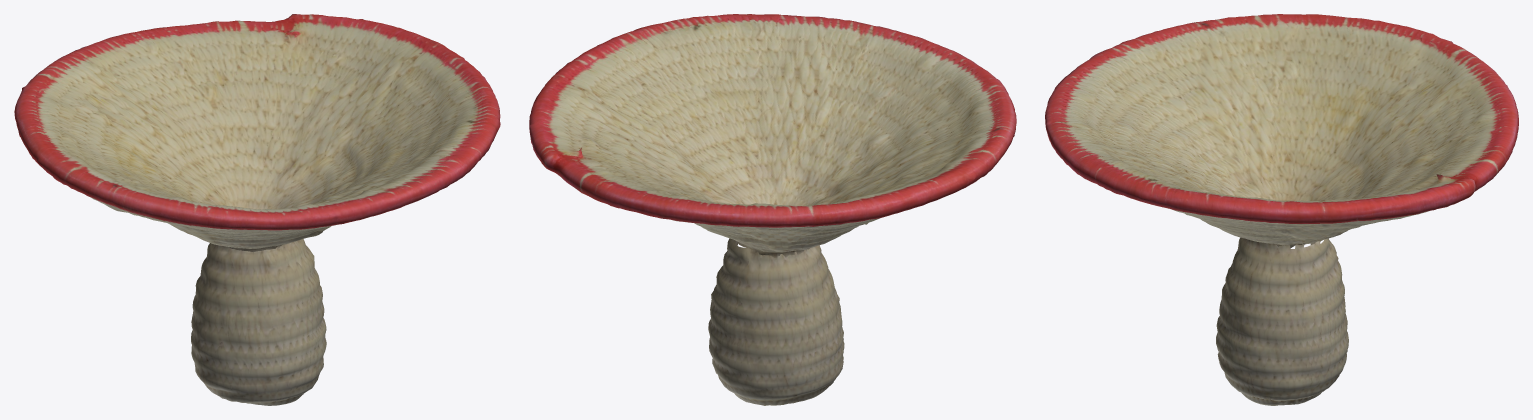
The model's file is serving-dish.gltf.
The picture shows the model from 3 angles, left to right: view 1: azimuth 30°, elevation 25°; view 2: azimuth 150°, elevation 25°; view 3: azimuth 270°, elevation 25°; orthographic projection.
Parts seen in each view (by area): view 1: low-res; view 2: low-res; view 3: low-res.
Boxes of the visible parts, x1,y1,x2,y2 form: low-res: (14, 14, 500, 405); low-res: (529, 14, 1016, 405); low-res: (1045, 14, 1518, 405).
Bounding box in the file's own units: 3.65 × 2.4 × 3.62.
Materials: 1 (1 with a texture image).
